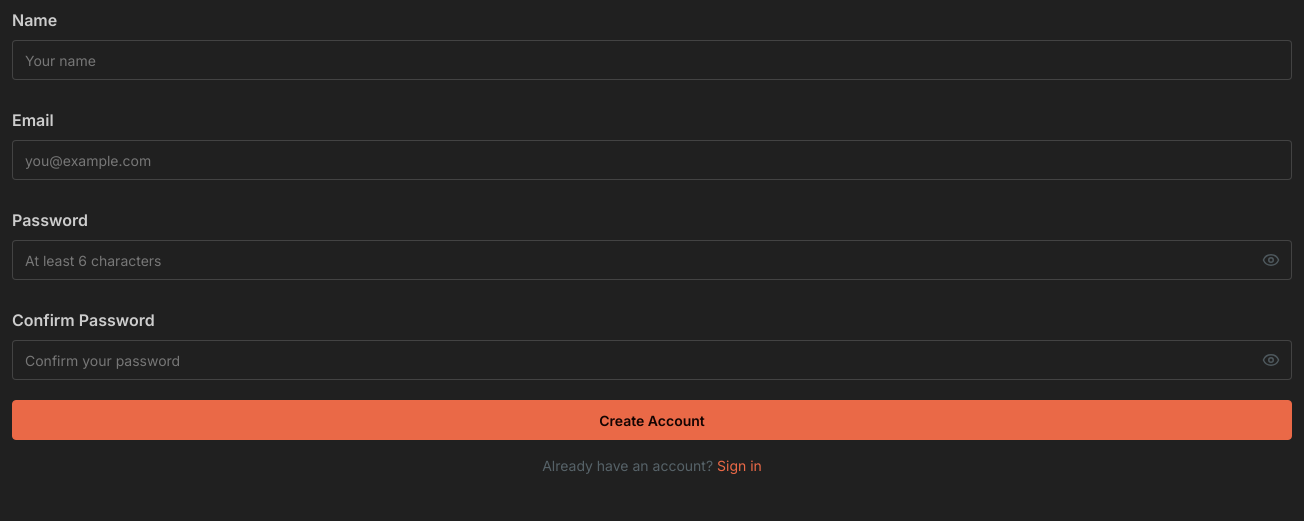
Test: RegisterForm › shows error for password too short
The image size is (1304, 521).
Type "test@example.com" into the field with placeholder "you@example.com" at coordinates (652, 160), box [12,140,1292,180]
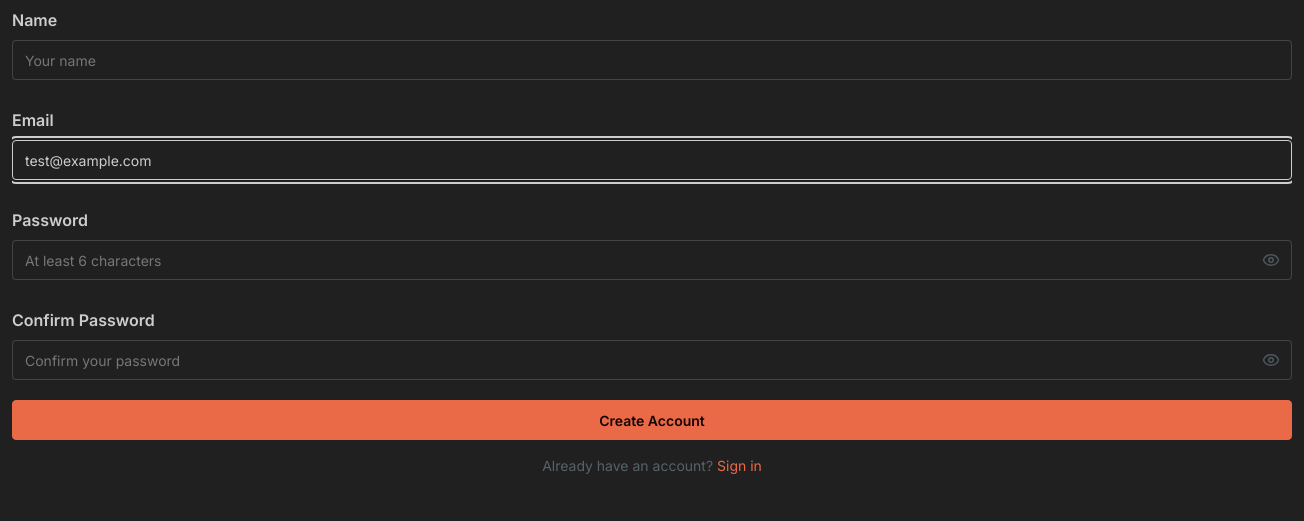
Type "12345" into the password field with placeholder "At least 6 characters" at coordinates (652, 260), box [12,240,1292,280]
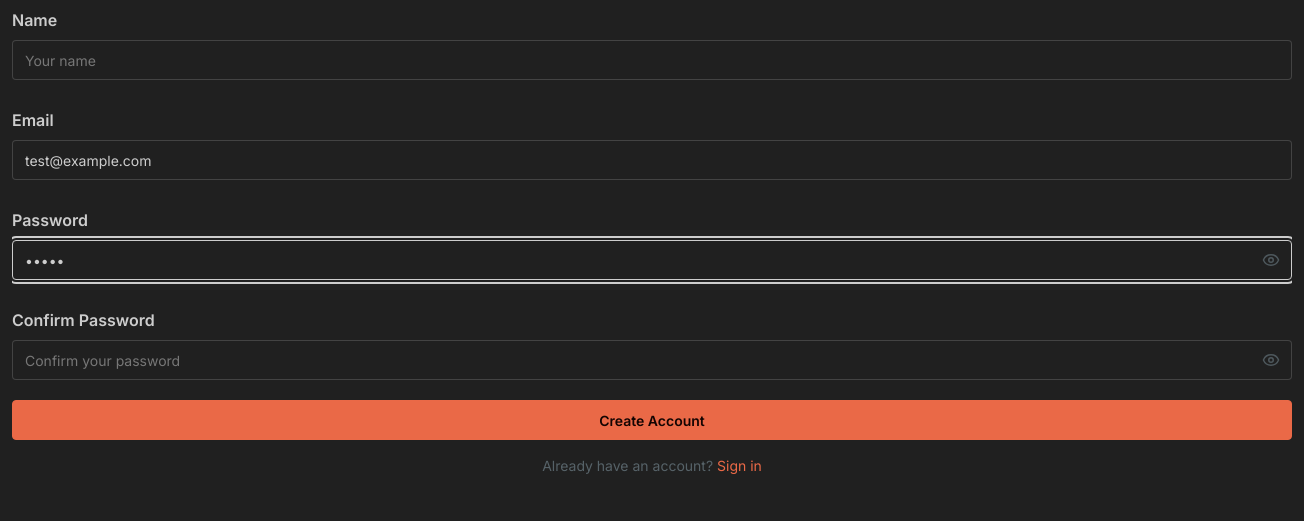
Type "12345" into the password field with placeholder "Confirm your password" at coordinates (652, 360), box [12,340,1292,380]
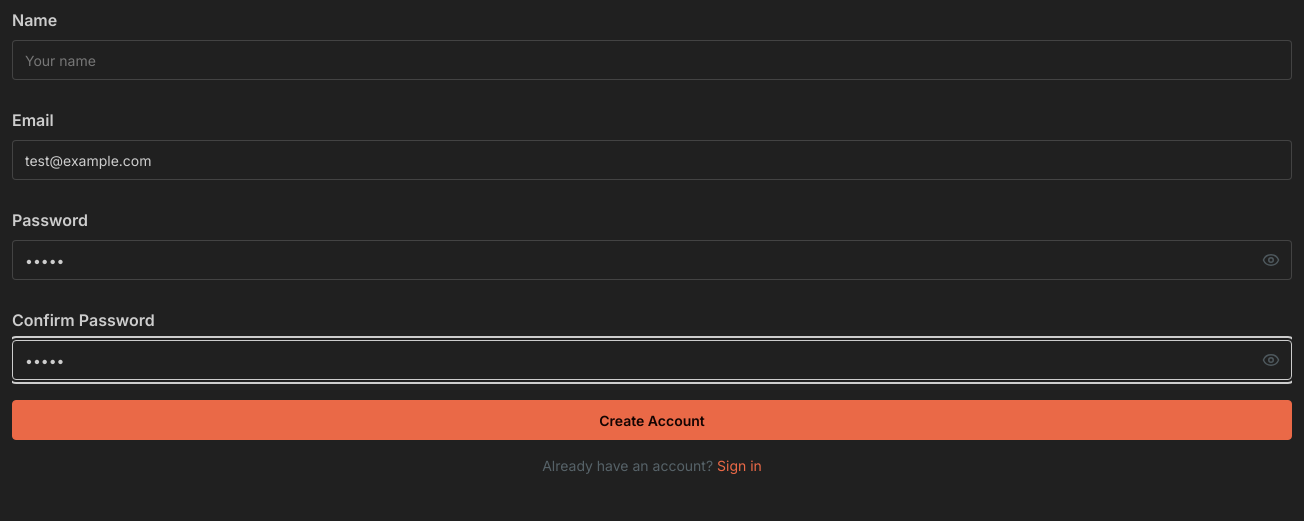
Click the button "Create Account" at coordinates (652, 420), box [12,400,1292,440]
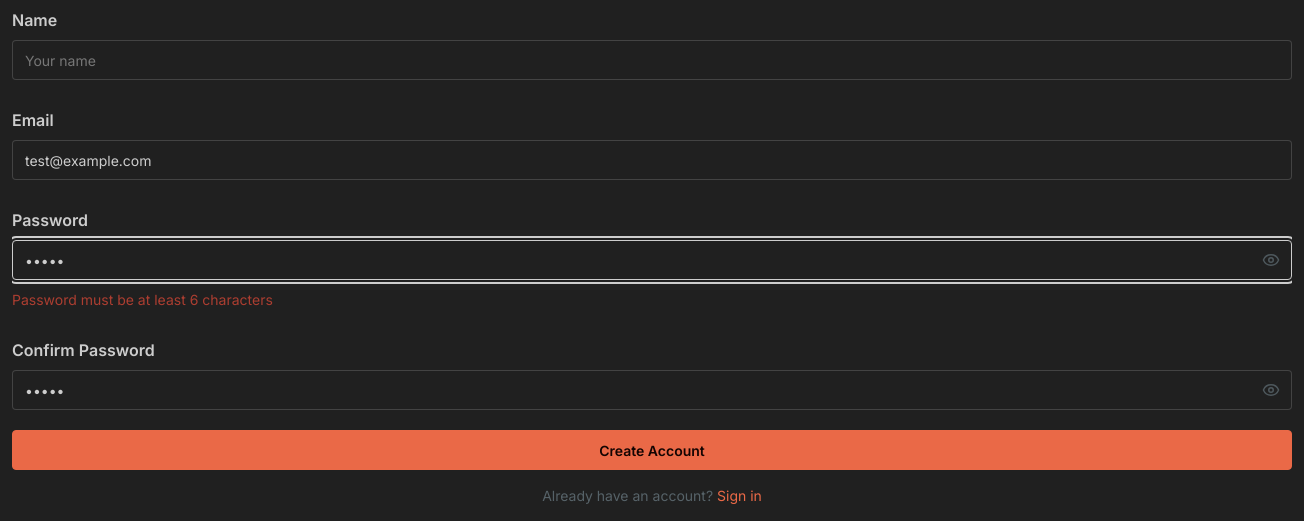
Check: the text "Password must be at least 6 characters" is shown, box [12,291,273,308]
